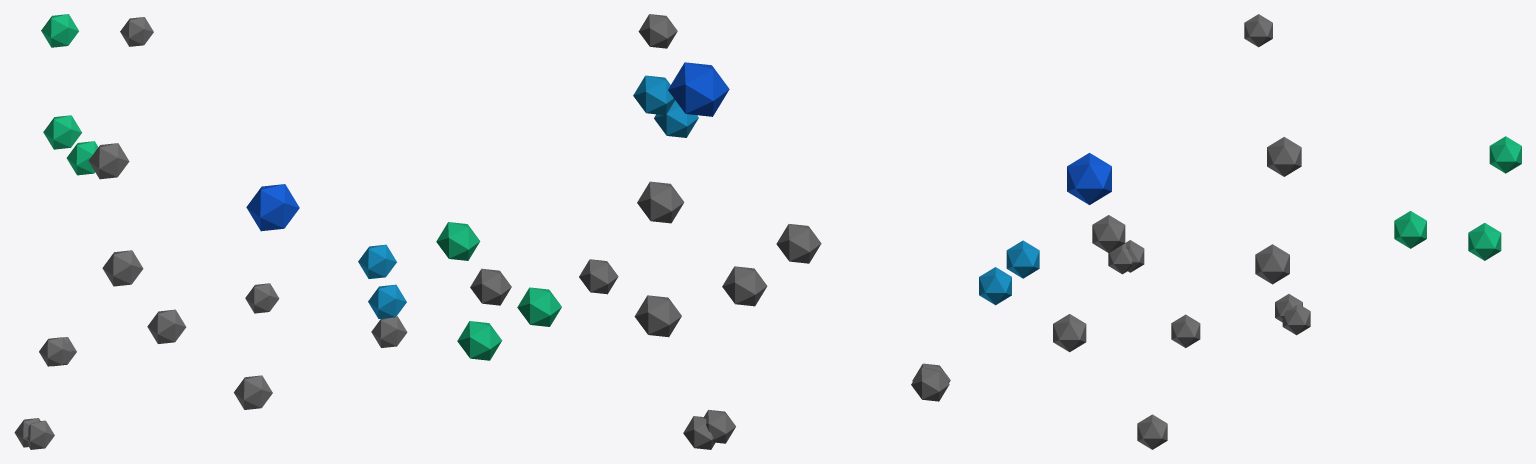
The picture shows the model from 3 angles, left to right: view 1: azimuth 30°, elevation 25°; view 2: azimuth 150°, elevation 25°; view 3: azimuth 270°, elevation 25°; orthographic projection. The views are drawn at different scales.
Visible parts, largest first — view 1: 06_00_03; view 2: 06_00_03; view 3: 06_00_03.
Boxes of the visible parts, bbox=[...] form: 06_00_03: bbox=[14, 14, 407, 449]; 06_00_03: bbox=[436, 14, 950, 449]; 06_00_03: bbox=[979, 14, 1521, 449].
Size of the model in its own units: 0.4819 by 0.403 by 0.5802.
